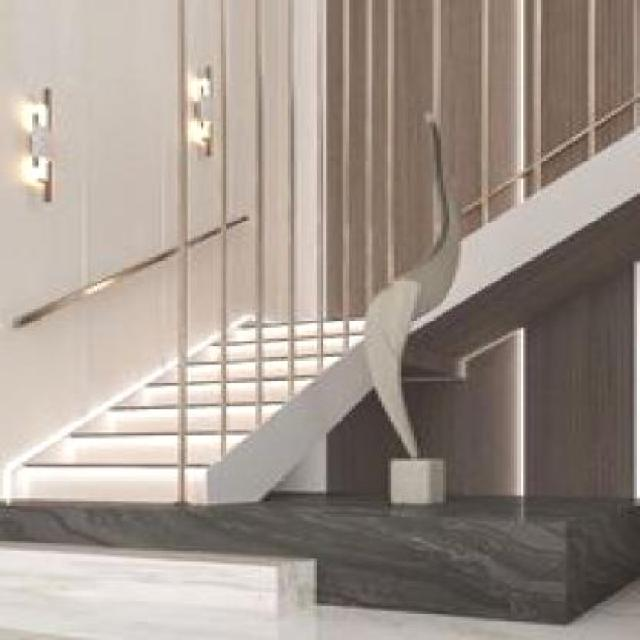stair: (0, 149, 449, 617)
